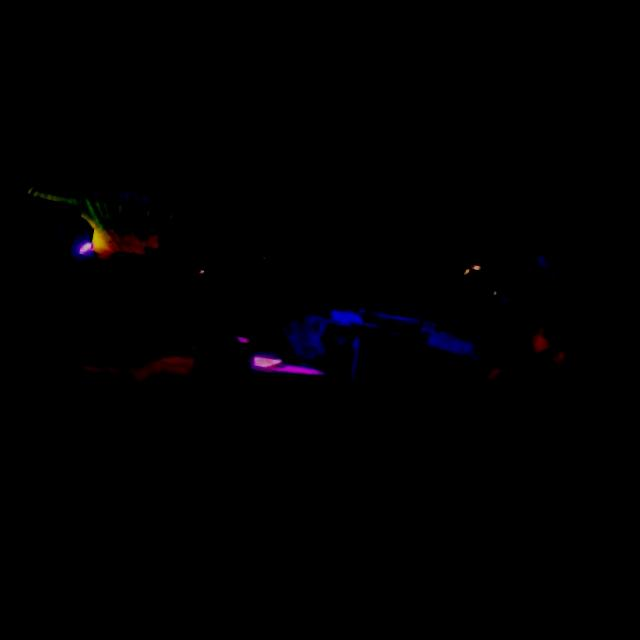Person: (251, 279, 386, 422)
